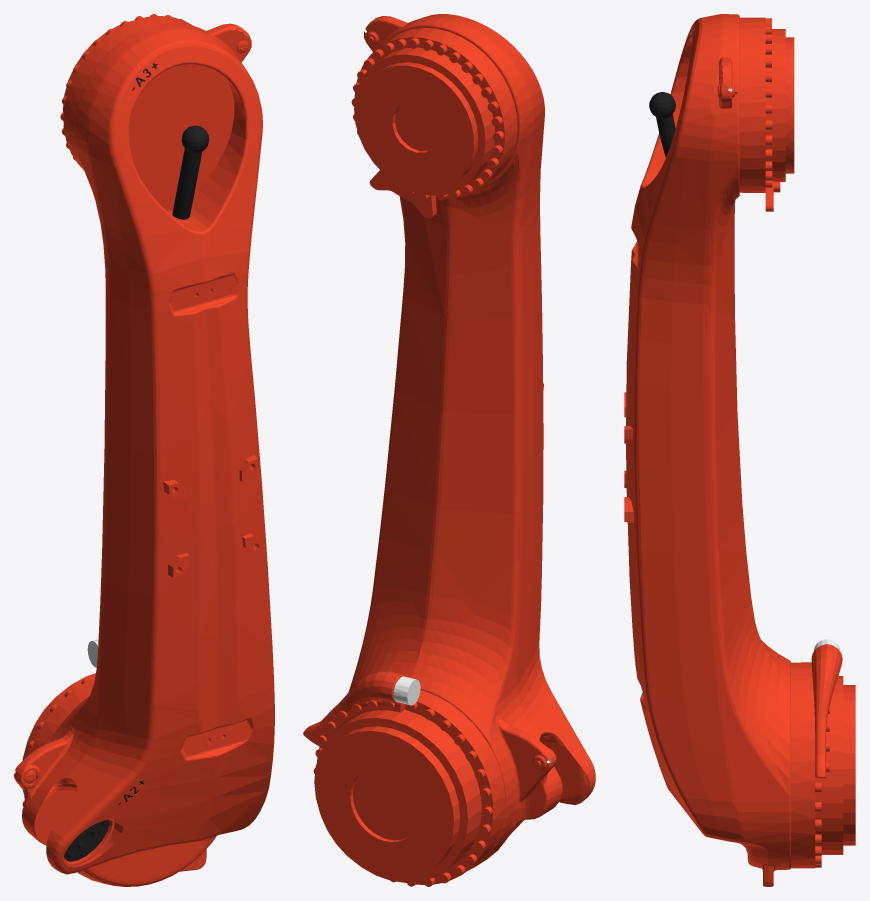
The picture shows the model from 3 angles, left to right: view 1: azimuth 30°, elevation 25°; view 2: azimuth 150°, elevation 25°; view 3: azimuth 270°, elevation 25°; orthographic projection. The views are drawn at different scales.
Visible parts, largest first — view 1: link_2; view 2: link_2; view 3: link_2.
Part boxes in pixels (<box>): link_2: <box>14,14,274,886</box>; link_2: <box>303,14,595,886</box>; link_2: <box>624,14,855,886</box>.
Size of the model in its own units: 0.4843 by 0.429 by 1.71.
